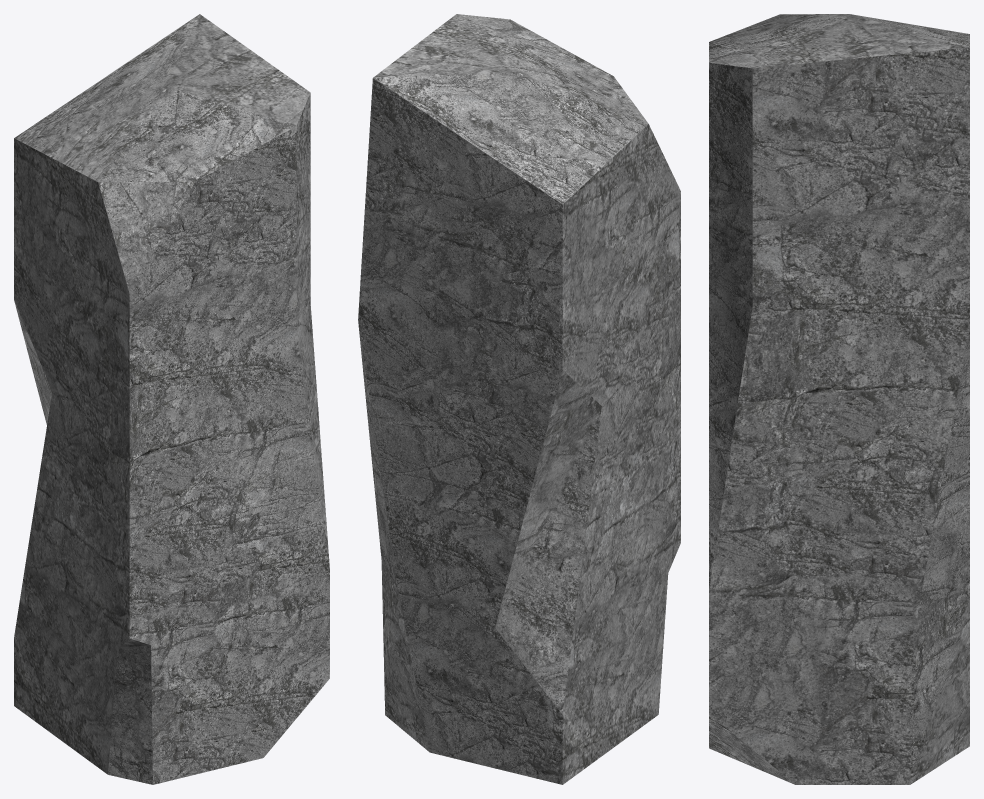
File: materials_3_pillar_10.fbx
The picture shows the model from 3 angles, left to right: view 1: azimuth 30°, elevation 25°; view 2: azimuth 150°, elevation 25°; view 3: azimuth 270°, elevation 25°; orthographic projection. The views are drawn at different scales.
Visible parts, largest first — view 1: materials_3_pillar_10; view 2: materials_3_pillar_10; view 3: materials_3_pillar_10.
Boxes of the visible parts, x1,y1,x2,y2 form: materials_3_pillar_10: (14,14,329,784); materials_3_pillar_10: (358,14,680,784); materials_3_pillar_10: (709,14,969,784).
Size of the model in its own units: 69.21 by 214 by 69.21.
